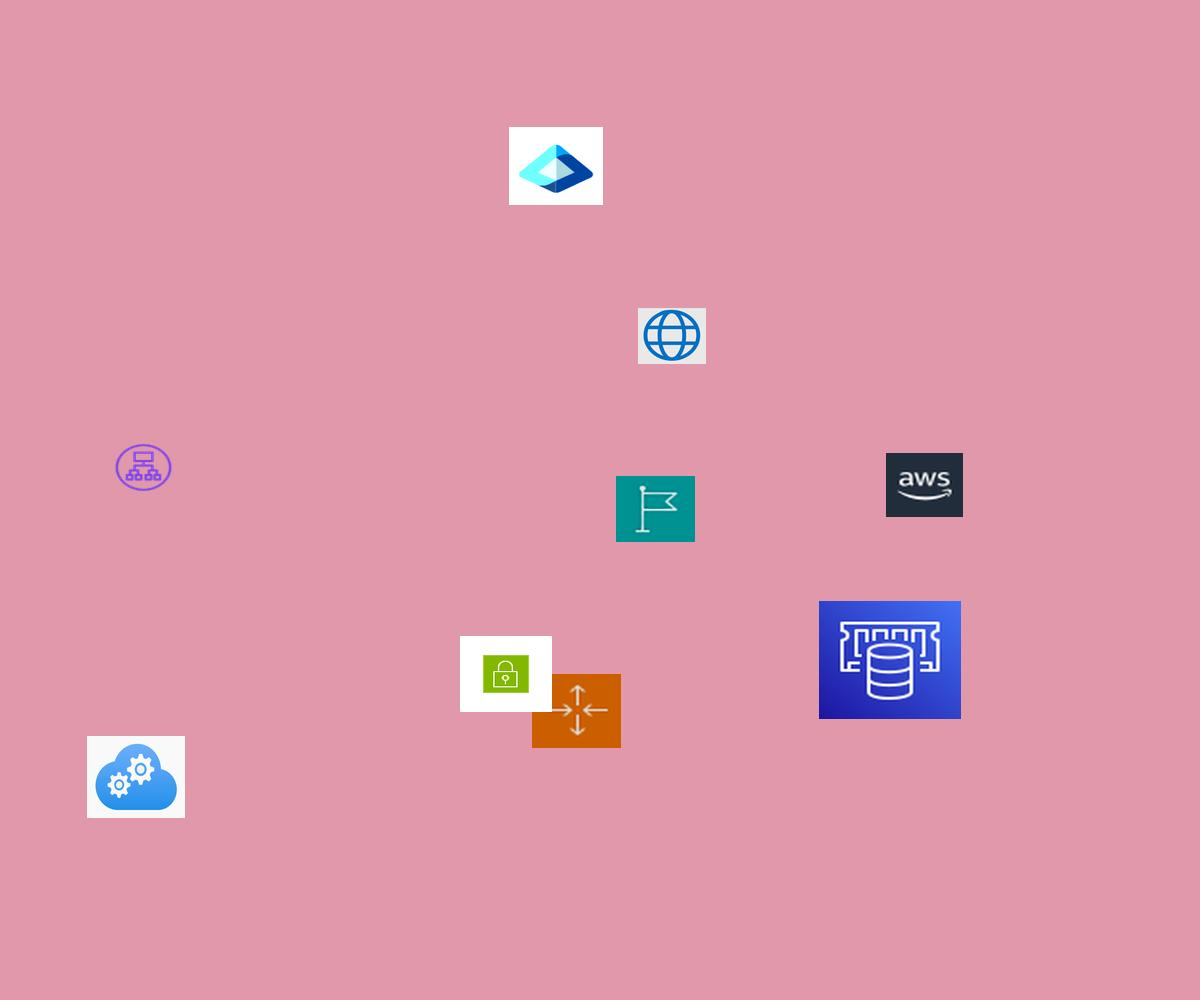AWS-Cloud-logo: (886, 453, 963, 517)
AWS-ElastiCache: (819, 601, 961, 719)
AWS-Public-subnet: (460, 636, 552, 712)
AWS-Region: (616, 476, 695, 542)
AWS-Res_Elastic-Load-Balancing_Application-Load-Balancer: (113, 442, 174, 493)
AWS-Scaling-group: (532, 674, 621, 748)
Azure_cloud_services: (87, 736, 185, 818)
Azure_http: (638, 308, 706, 364)
Azure_microsoft_entra: (509, 127, 603, 205)
